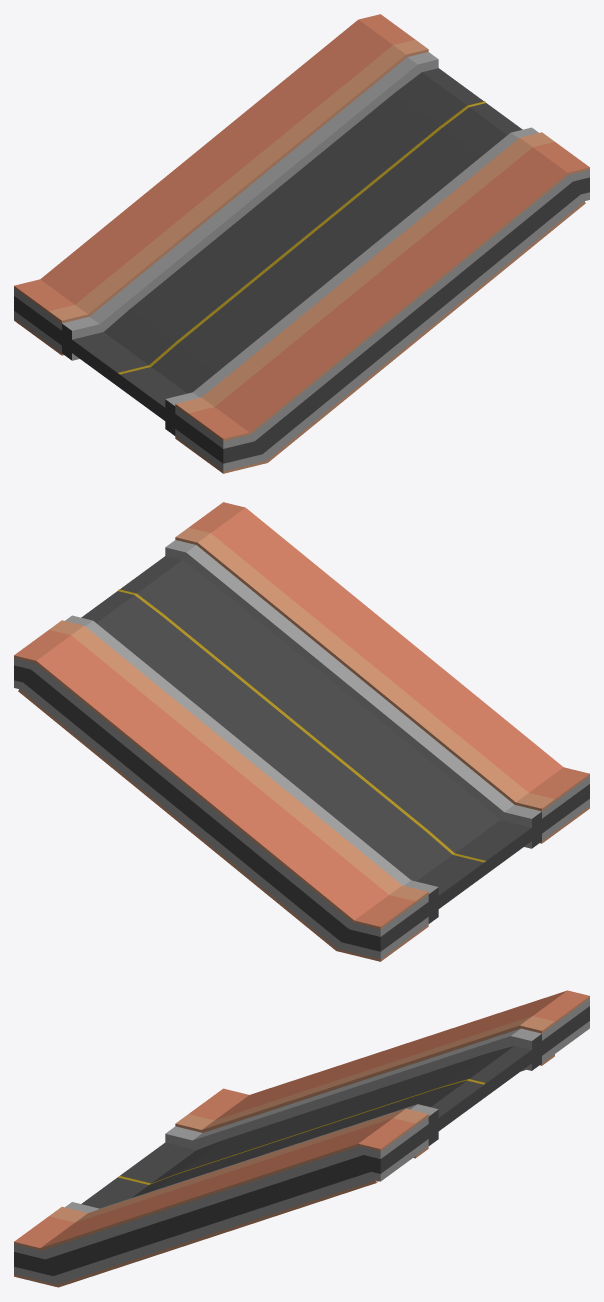
Rendered from Road 2.fbx.
3 renders of one model, top to bottom at view 1: azimuth 30°, elevation 25°; view 2: azimuth 150°, elevation 25°; view 3: azimuth 330°, elevation 25°, orthographic.
Parts seen in each view (by area): view 1: Road 2; view 2: Road 2; view 3: Road 2.
Boxes of the visible parts, x1,y1,x2,y2 form: Road 2: [14, 14, 589, 473]; Road 2: [14, 502, 589, 961]; Road 2: [14, 990, 589, 1287].
Size of the model in its own units: 12.5 by 12.36 by 7.07.
